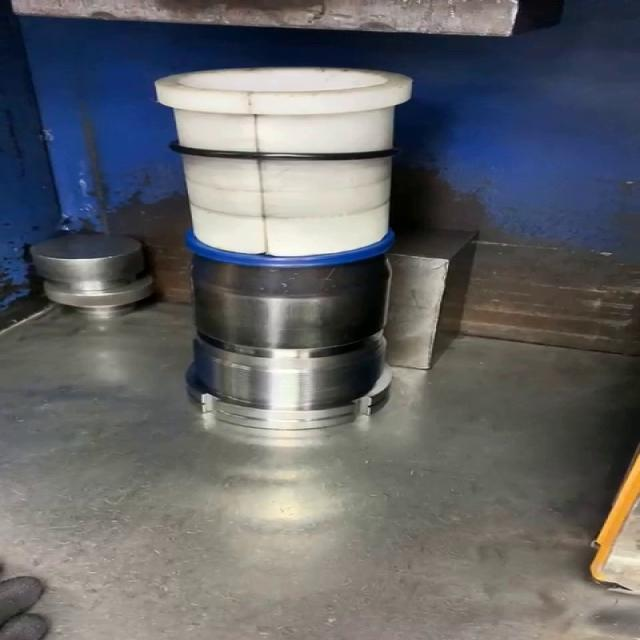black-ring: (170, 141, 400, 160)
purssian-blue-ring: (186, 231, 395, 268)
